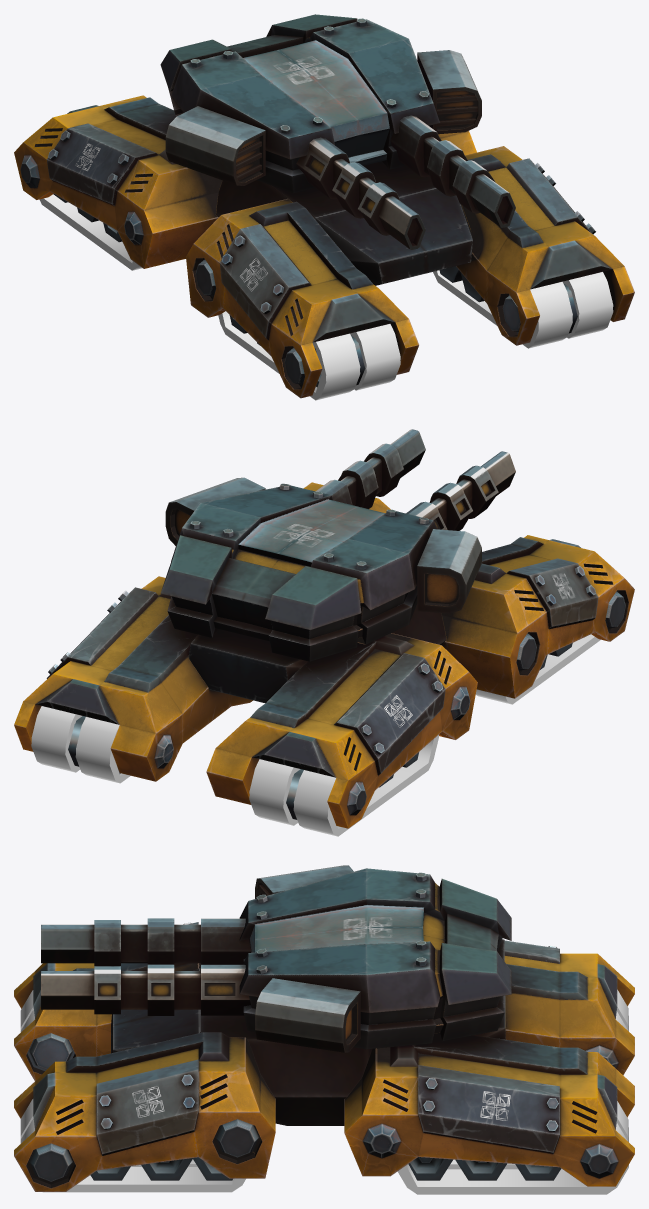
The model's file is panzer5.fbx.
3 renders of one model, top to bottom at view 1: azimuth 30°, elevation 25°; view 2: azimuth 150°, elevation 25°; view 3: azimuth 270°, elevation 25°, orthographic. The views are drawn at different scales.
Parts seen in each view (by area): view 1: base5, top5, tracks_for_5; view 2: base5, top5, tracks_for_5; view 3: base5, top5, tracks_for_5.
Part boxes in pixels (bbox=[...]): base5: bbox=[14, 95, 634, 398]; top5: bbox=[160, 14, 515, 249]; tracks_for_5: bbox=[39, 194, 613, 400]; base5: bbox=[14, 482, 634, 828]; top5: bbox=[160, 429, 515, 661]; tracks_for_5: bbox=[31, 634, 600, 836]; base5: bbox=[14, 922, 634, 1191]; top5: bbox=[41, 865, 511, 1052]; tracks_for_5: bbox=[20, 989, 628, 1194].
Size of the model in its own units: 484 by 266 by 741.
